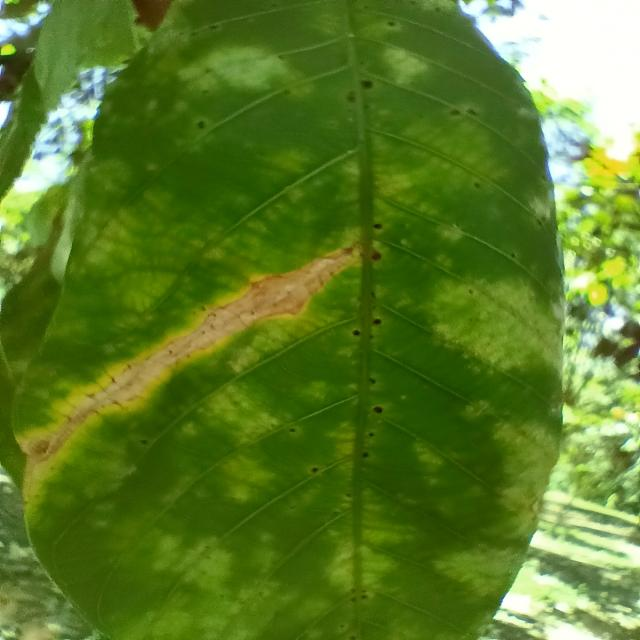Colletotrichum: (370, 250, 382, 262), (373, 405, 382, 415), (363, 80, 373, 89), (373, 222, 382, 230), (360, 452, 370, 458), (372, 318, 382, 324), (352, 330, 361, 336), (312, 467, 318, 473), (368, 433, 374, 437)
Leaf-Blight: (26, 248, 358, 460)
